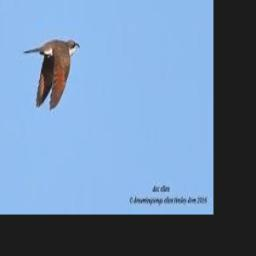Cuckoo: (21, 38, 79, 108)
